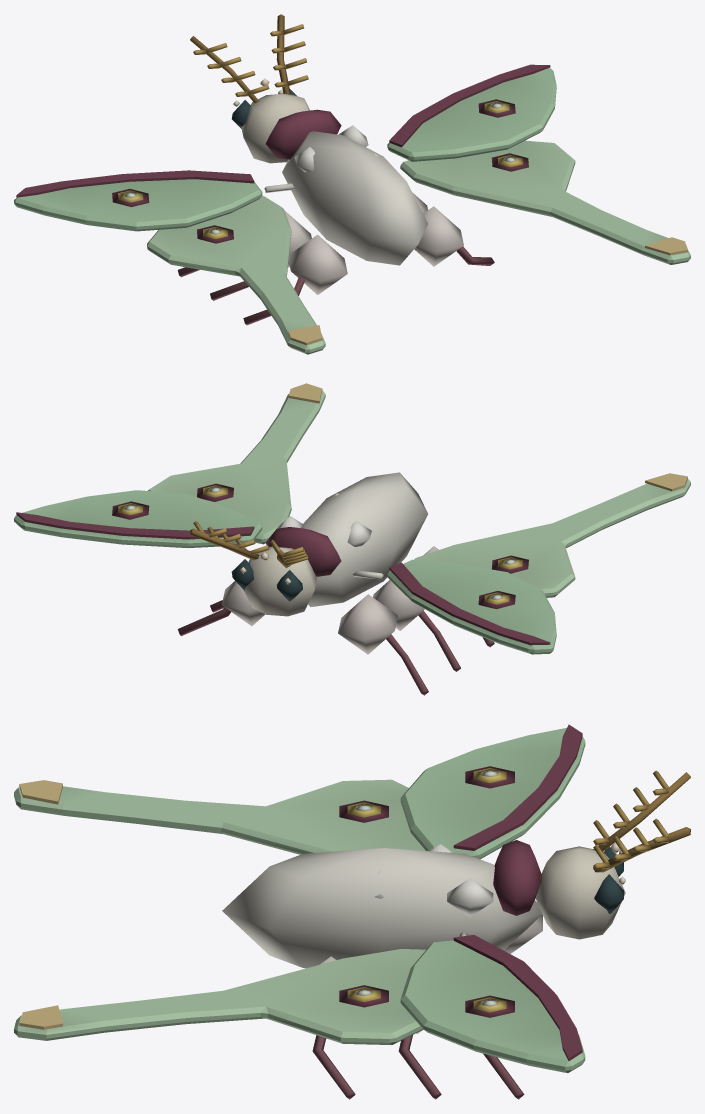
The model's file is insect_moth_longtail.glb.
3 renders of one model, top to bottom at view 1: azimuth 30°, elevation 25°; view 2: azimuth 150°, elevation 25°; view 3: azimuth 270°, elevation 25°, orthographic. The views are drawn at different scales.
Visible parts, largest first — view 1: Model; view 2: Model; view 3: Model.
Part boxes in pixels (x1=…): Model: x1=14, y1=14, x2=690, y2=354; Model: x1=14, y1=383, x2=690, y2=695; Model: x1=14, y1=724, x2=690, y2=1099.
Bounding box in the file's own units: 0.2687 × 0.0834 × 0.2282.
